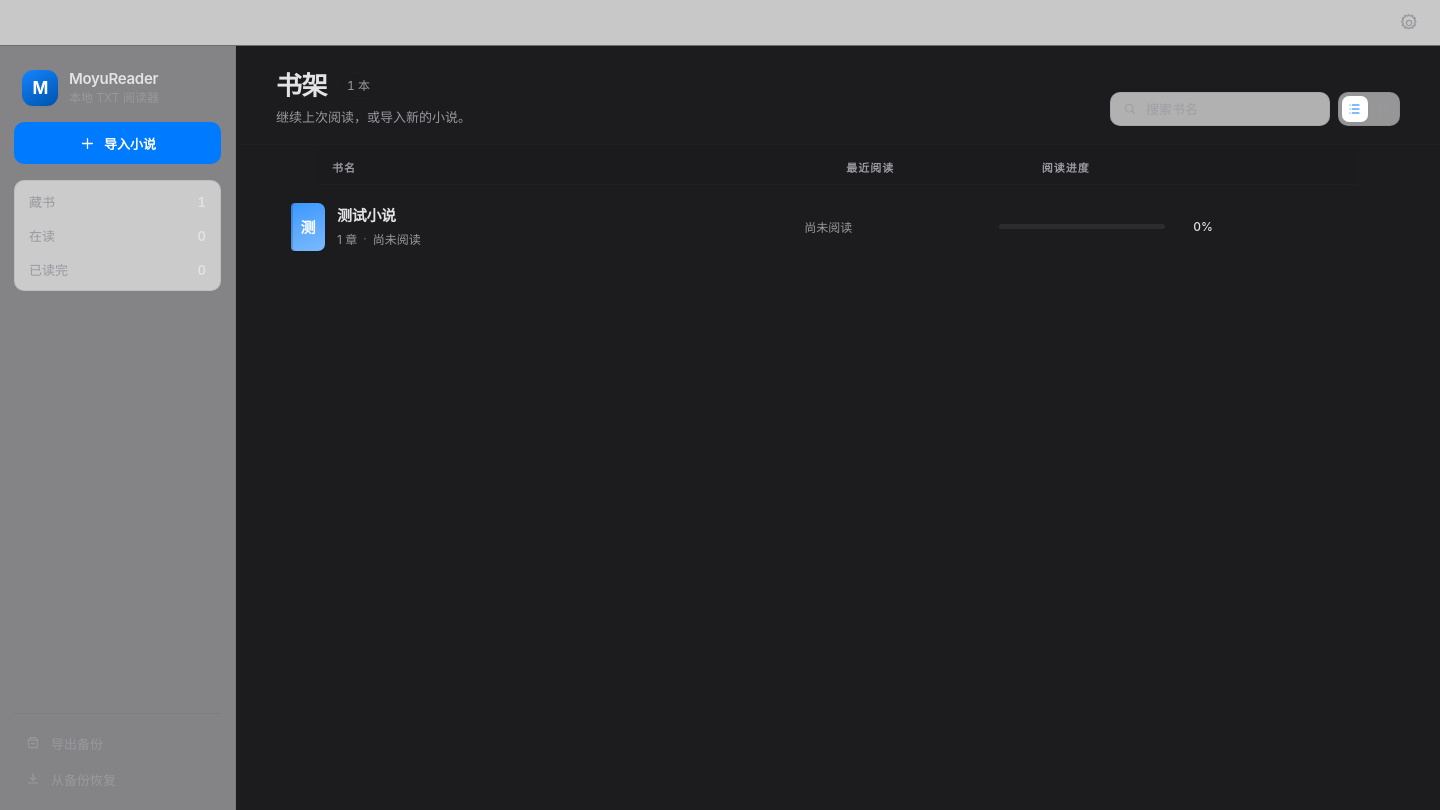
App reading progress behavior › flushes pending progress when the window is hidden by the global shortcut
Click the text "测试小说" at (366, 216), box x1=337 y1=206 x2=396 y2=225
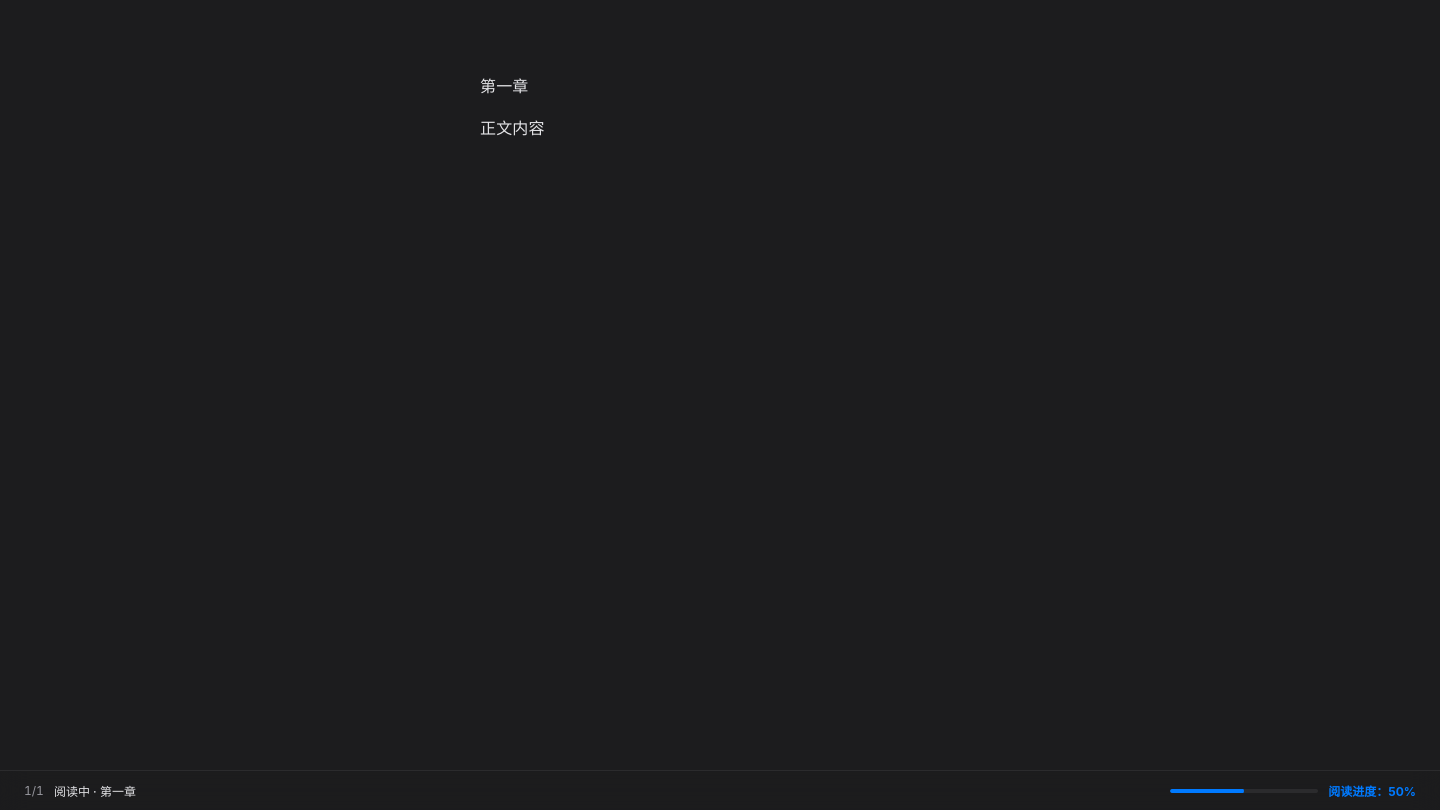
Expected: the text "阅读进度：50%" is shown, x1=1328 y1=782 x2=1416 y2=799
